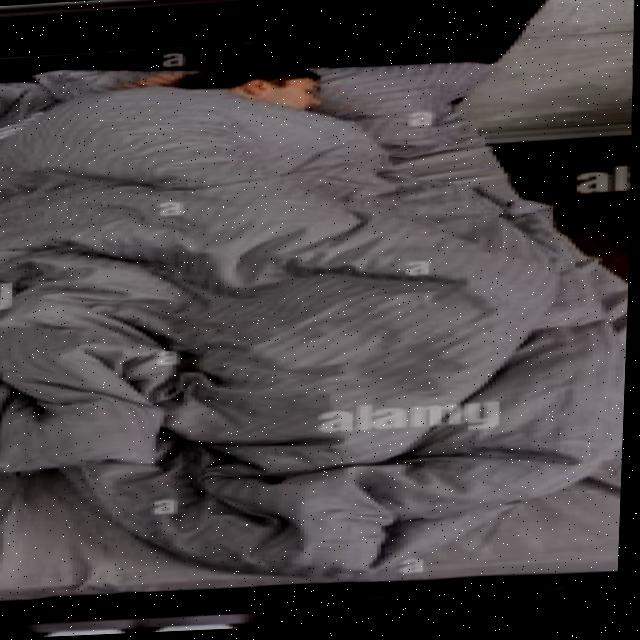sleeping-person: (0, 20, 597, 587)
